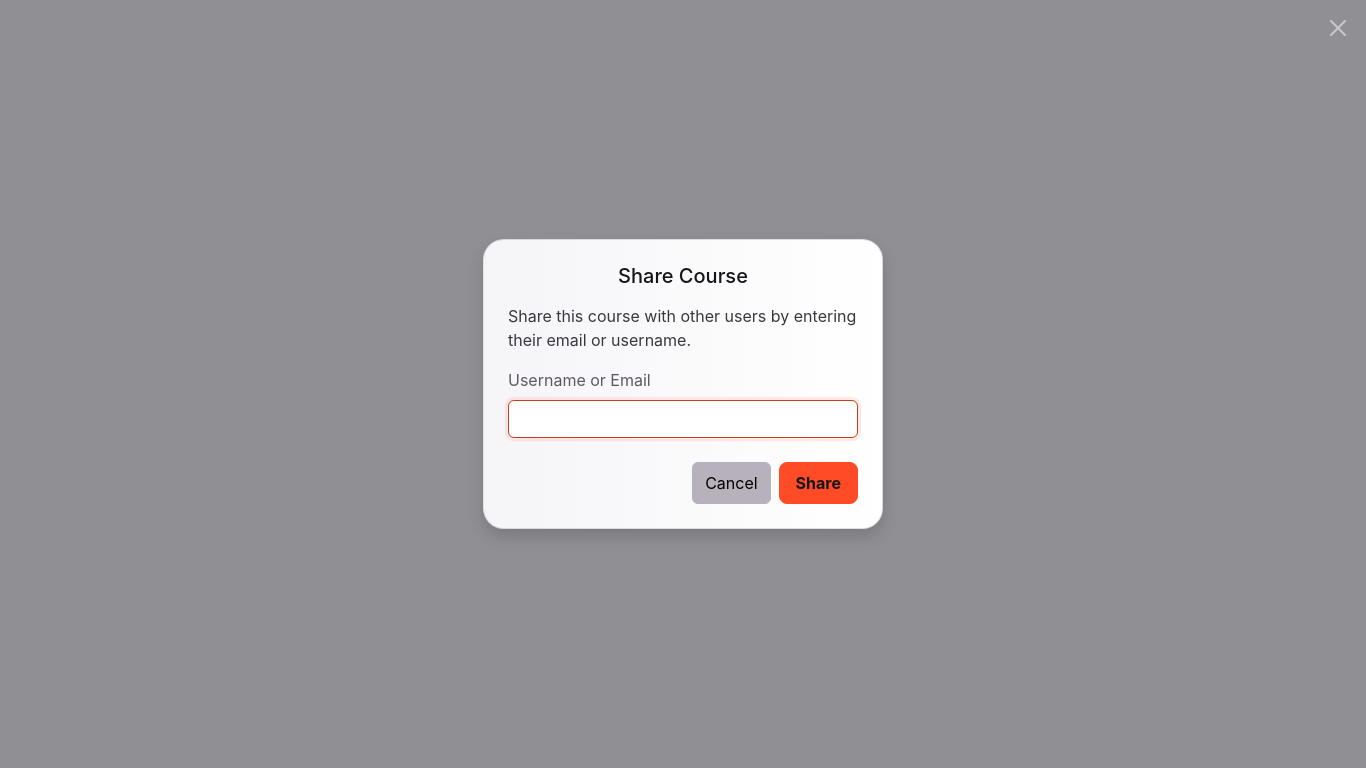
Scenario: ShareCourseModal › disables form elements while loading
Type "testuser" into the field labelled "Username or Email" at {"x": 683, "y": 419}, box top-left (508, 400), bottom-right (858, 438)
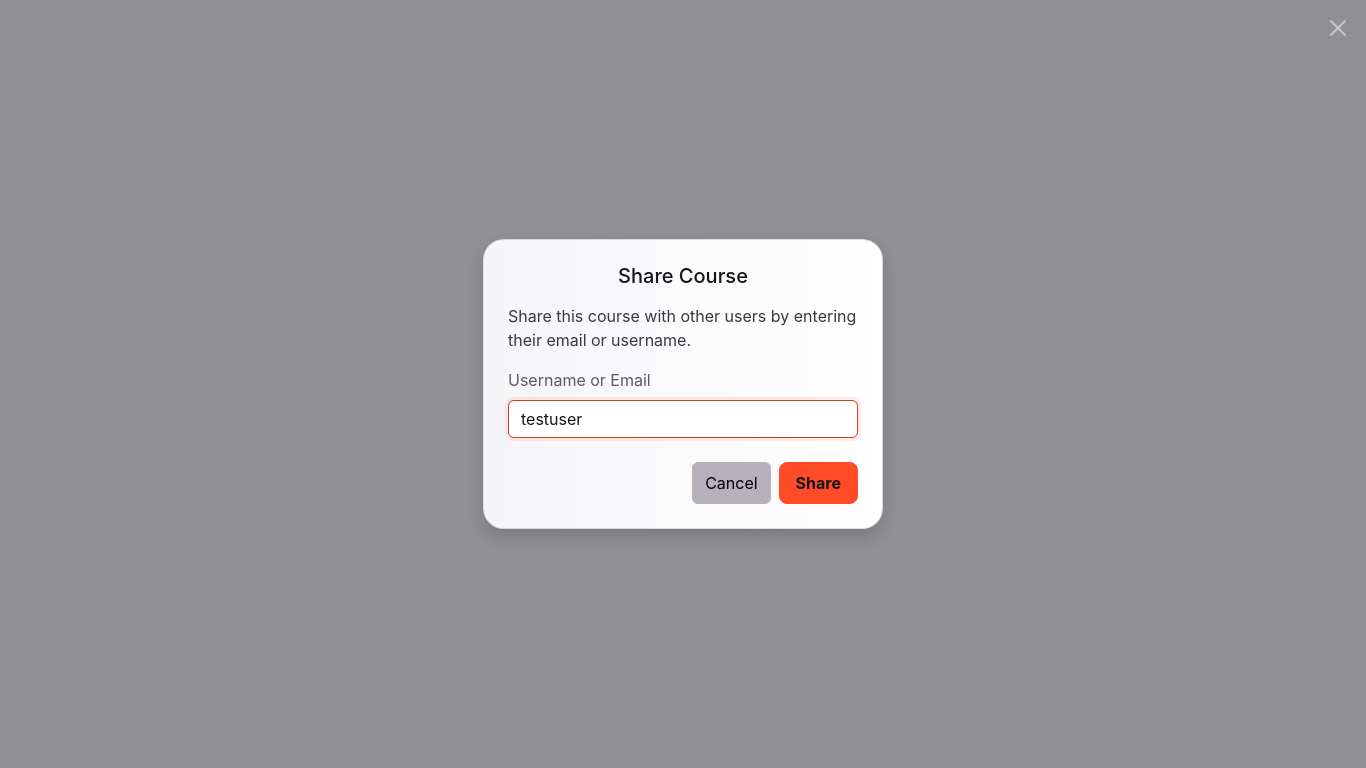
Click the button "Share" at {"x": 818, "y": 483}, box top-left (779, 462), bottom-right (858, 504)
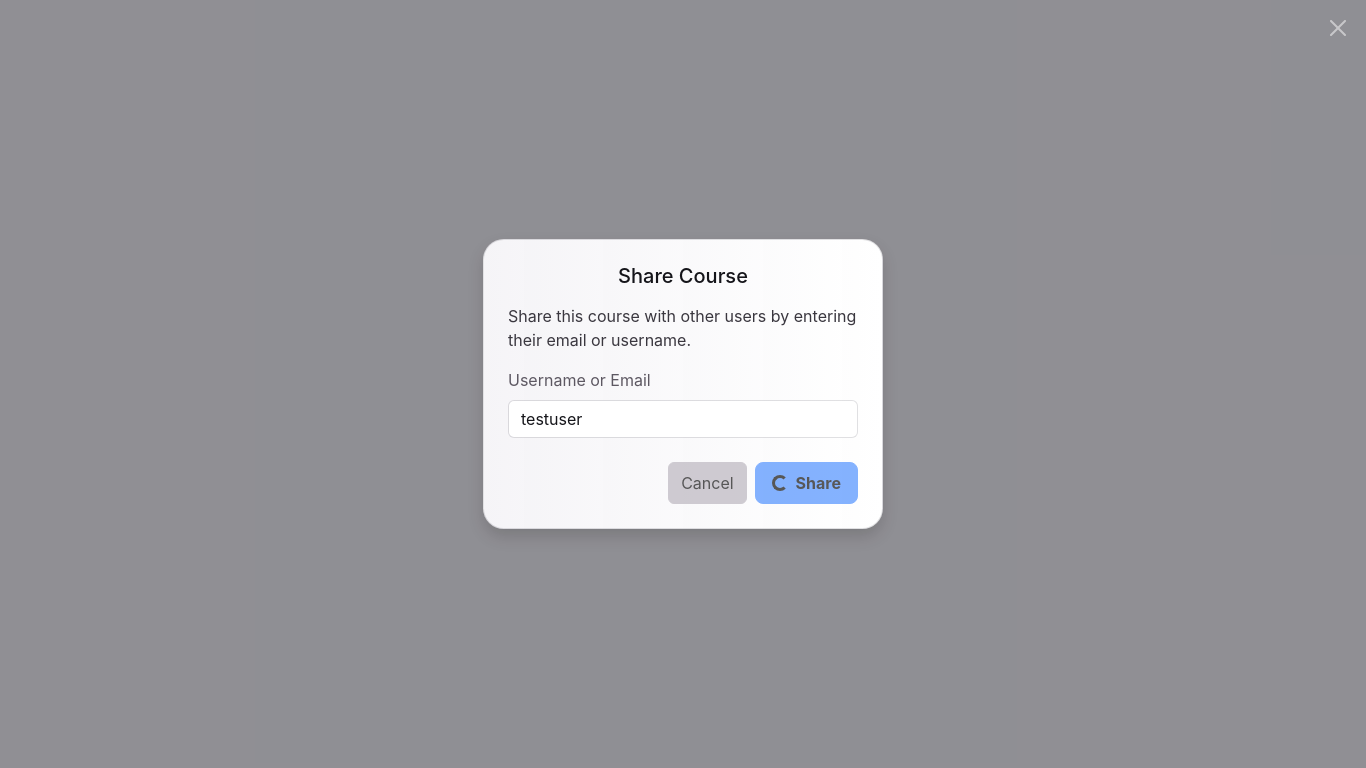
Check: the field labelled "Username or Email" is disabled, box top-left (508, 400), bottom-right (858, 438)
Check: the button "Cancel" is disabled, box top-left (668, 462), bottom-right (747, 504)
Check: the button "Share" is disabled, box top-left (755, 462), bottom-right (858, 504)
